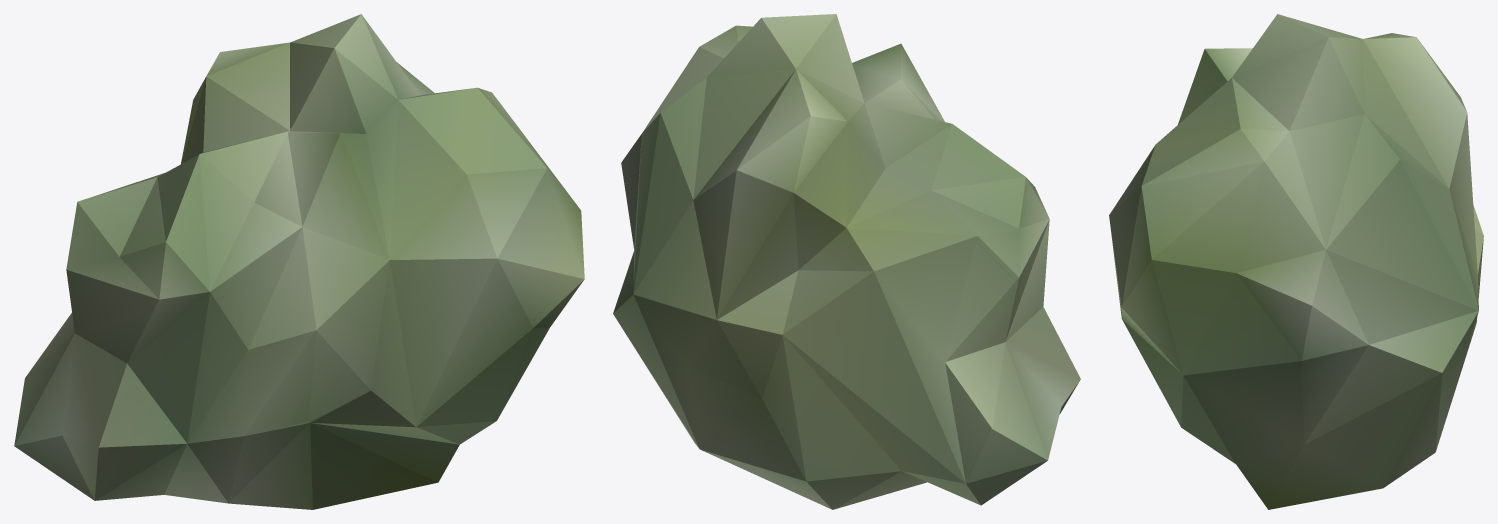
Rendered from tree.glb.
The picture shows the model from 3 angles, left to right: view 1: azimuth 30°, elevation 25°; view 2: azimuth 150°, elevation 25°; view 3: azimuth 270°, elevation 25°; orthographic projection. The views are drawn at different scales.
Visible parts, largest first — view 1: Tree_A; view 2: Tree_A; view 3: Tree_A.
Boxes of the visible parts, x1,y1,x2,y2 form: Tree_A: (14, 14, 584, 509); Tree_A: (613, 14, 1080, 509); Tree_A: (1109, 14, 1483, 509).
Size of the model in its own units: 0.5833 by 0.5564 by 0.4006.
